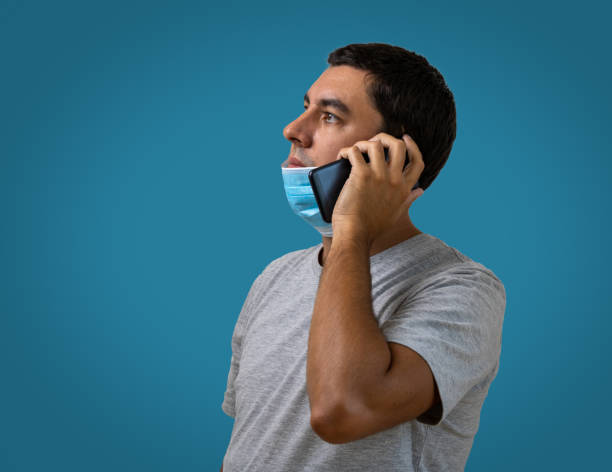mask_weared_incorrect: (281, 43, 389, 232)
